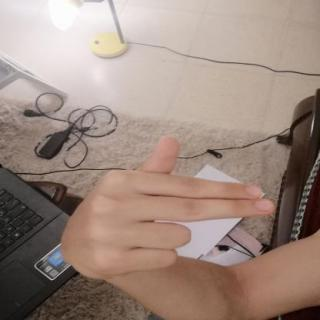GHAYN: (46, 129, 289, 291)
